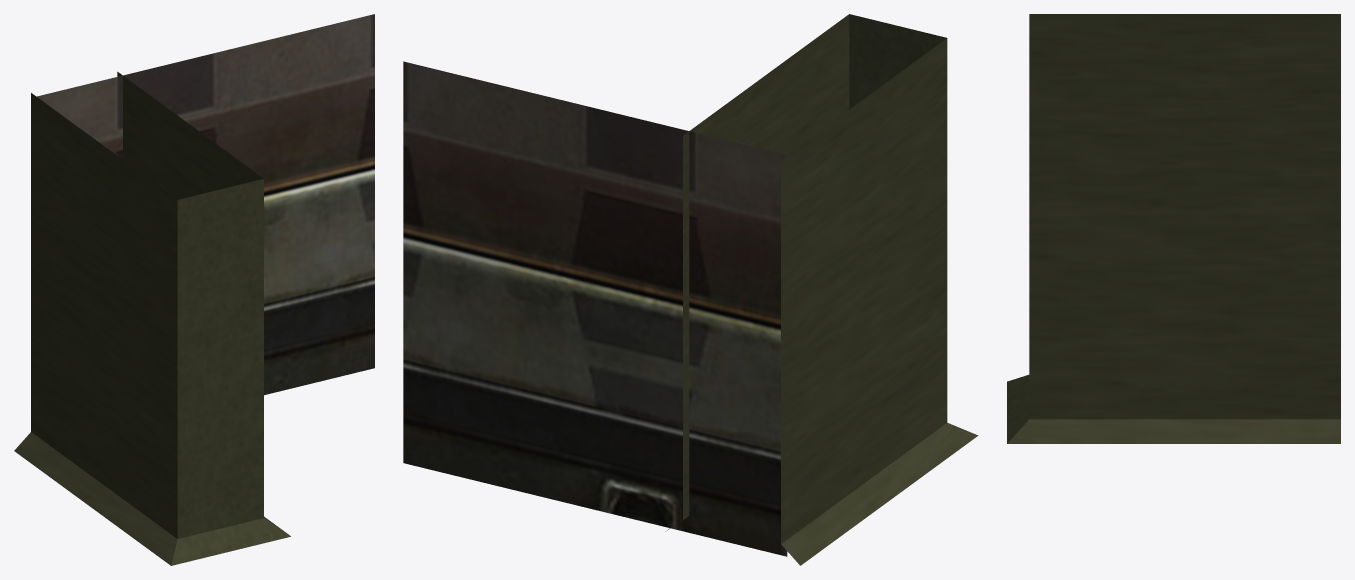
File: CubeBaseFrontDoorML.fbx
The picture shows the model from 3 angles, left to right: view 1: azimuth 30°, elevation 25°; view 2: azimuth 150°, elevation 25°; view 3: azimuth 270°, elevation 25°; orthographic projection. The views are drawn at different scales.
Visible parts, largest first — view 1: polySurface2, pCube5; view 2: pCube5, polySurface2; view 3: polySurface2.
Boxes of the visible parts, box(x1,y1,x2,y2) form: polySurface2: box(14, 71, 290, 565); pCube5: box(36, 14, 374, 395); pCube5: box(403, 61, 787, 556); polySurface2: box(665, 14, 978, 565); polySurface2: box(1007, 14, 1340, 443).
Size of the model in its own units: 1.05 by 1 by 0.804.
2 materials, 2 textured.
